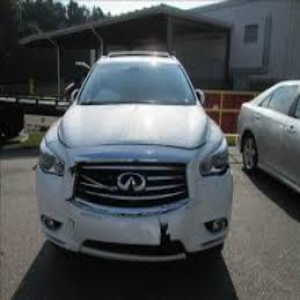bumper: (136, 216, 191, 262)
